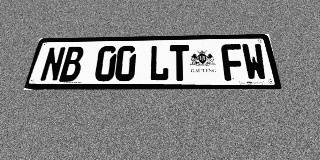0: (93, 46, 118, 81), (114, 46, 137, 81)
B: (59, 46, 85, 82)
F: (221, 44, 246, 81)
L: (148, 45, 169, 81)
N: (39, 47, 66, 82)
T: (170, 45, 190, 81)
W: (241, 44, 268, 81)
